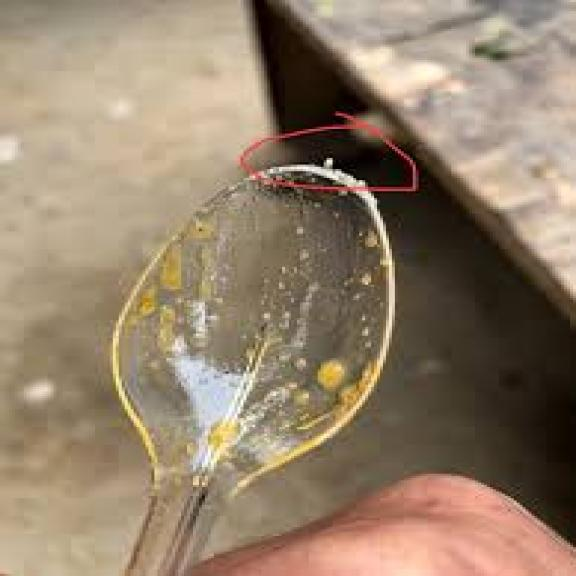Plastik: (113, 165, 394, 575)
